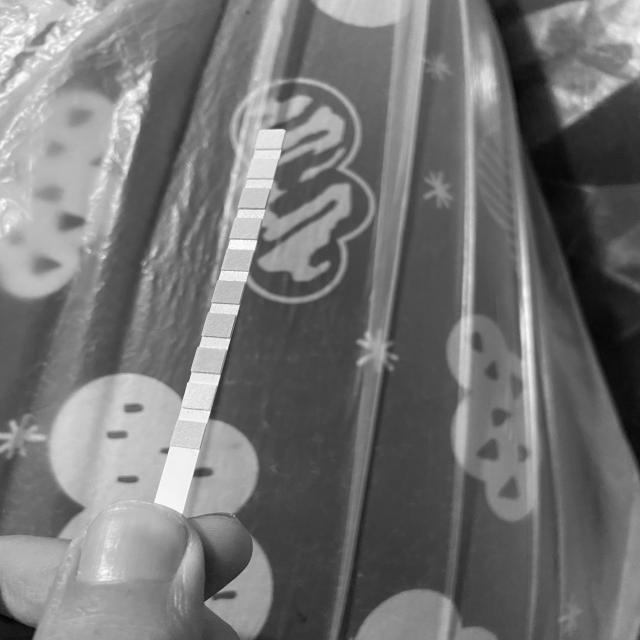Bilirubin: (187, 386, 210, 407)
Blood: (219, 282, 240, 302)
Glucose: (176, 424, 200, 446)
Ketone: (197, 350, 220, 371)
Leukocytes: (259, 131, 281, 148)
Nitrite: (252, 160, 273, 177)
Protein: (235, 219, 255, 238)
SpGravity: (208, 315, 230, 336)
Urobilinogen: (244, 189, 265, 207)
background: (0, 0, 640, 640)
pH: (226, 250, 249, 270)
strip: (155, 129, 286, 515)
